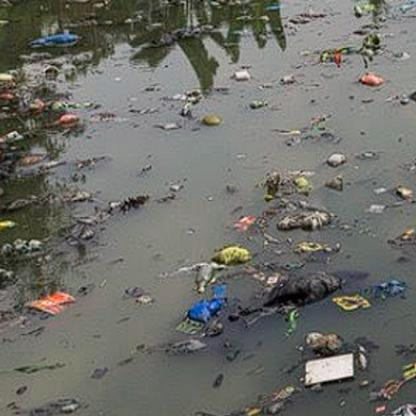Glass: (187, 262, 214, 294)
Metal: (352, 4, 366, 21)
Plastic: (30, 32, 80, 48), (56, 109, 76, 132), (0, 219, 23, 232)
Trash: (300, 354, 356, 390), (21, 292, 76, 317), (186, 296, 228, 324), (216, 247, 254, 270), (337, 292, 370, 314), (233, 212, 258, 236), (361, 68, 386, 90), (319, 50, 342, 67), (180, 100, 196, 122), (294, 176, 313, 194)
